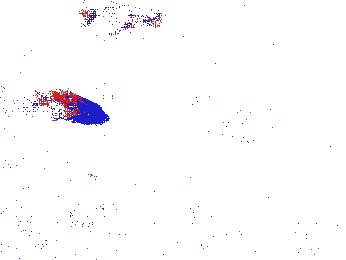X-ray fish: (213, 95, 287, 147), (45, 93, 99, 126)
redtail glassfish: (76, 1, 172, 36)
